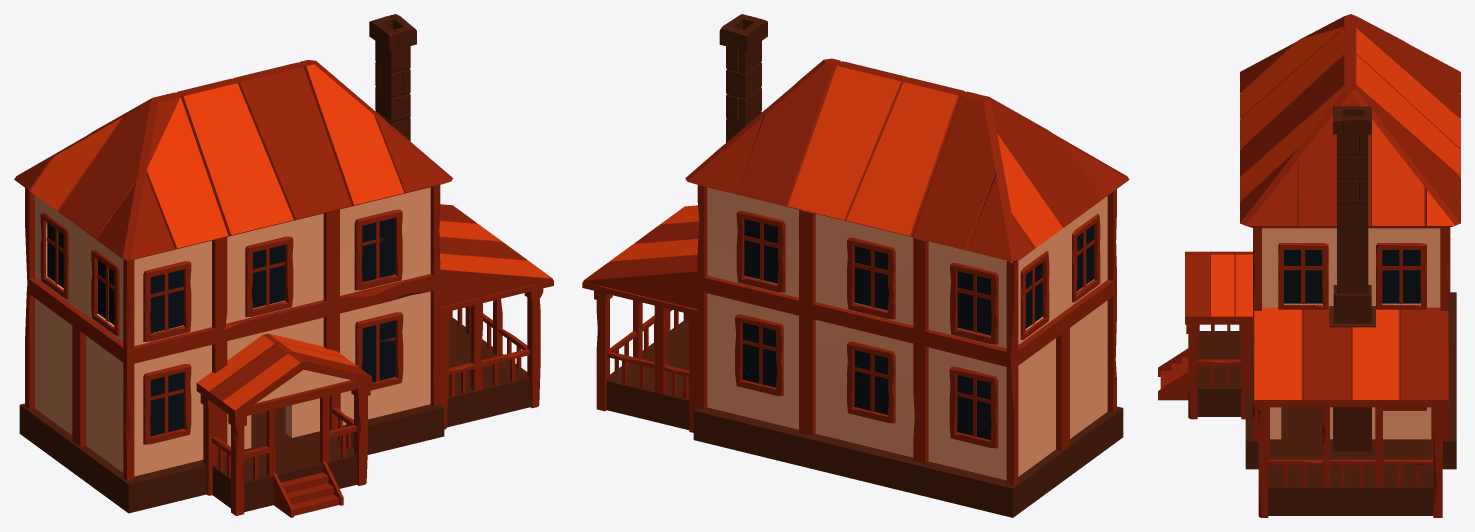
The model's file is House_2.fbx.
The picture shows the model from 3 angles, left to right: view 1: azimuth 30°, elevation 25°; view 2: azimuth 150°, elevation 25°; view 3: azimuth 270°, elevation 25°; orthographic projection. The views are drawn at different scales.
Parts seen in each view (by area): view 1: House_2; view 2: House_2; view 3: House_2.
Part boxes in pixels (bbox=[...]): House_2: bbox=[14, 14, 553, 517]; House_2: bbox=[582, 14, 1129, 517]; House_2: bbox=[1158, 14, 1460, 517].
Bounding box in the file's own units: 326 × 265 × 203.
